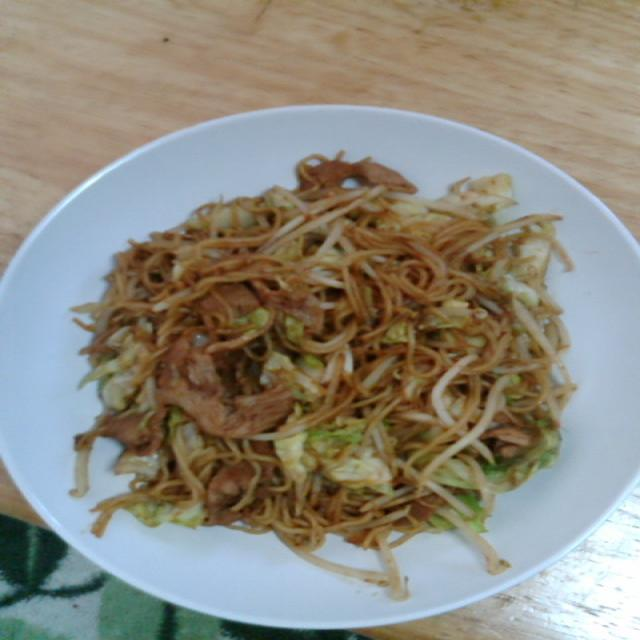面条主食: (67, 141, 572, 532)
